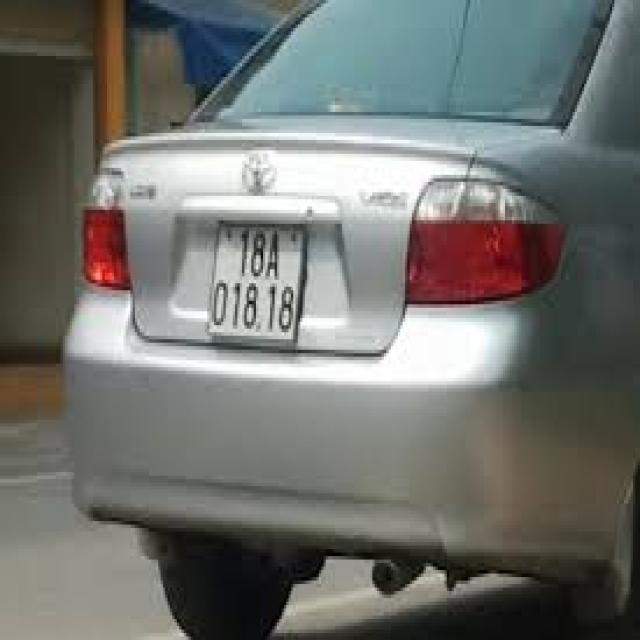bien_so: (201, 198, 322, 352)
